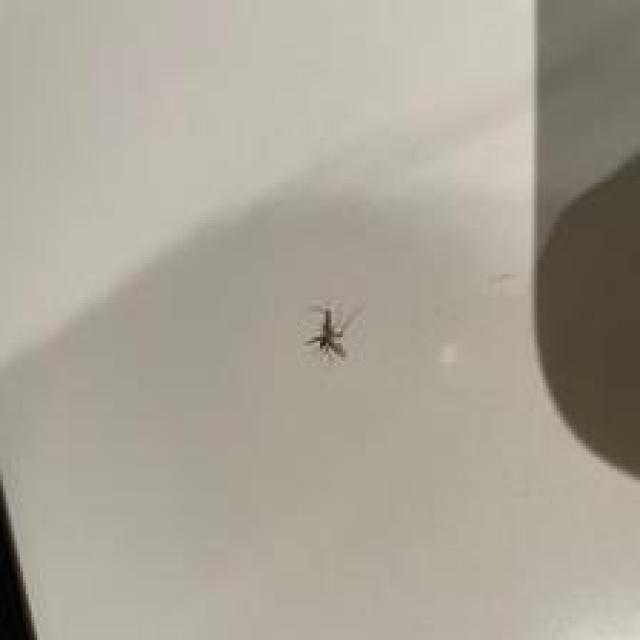Culex: (303, 302, 363, 362)
